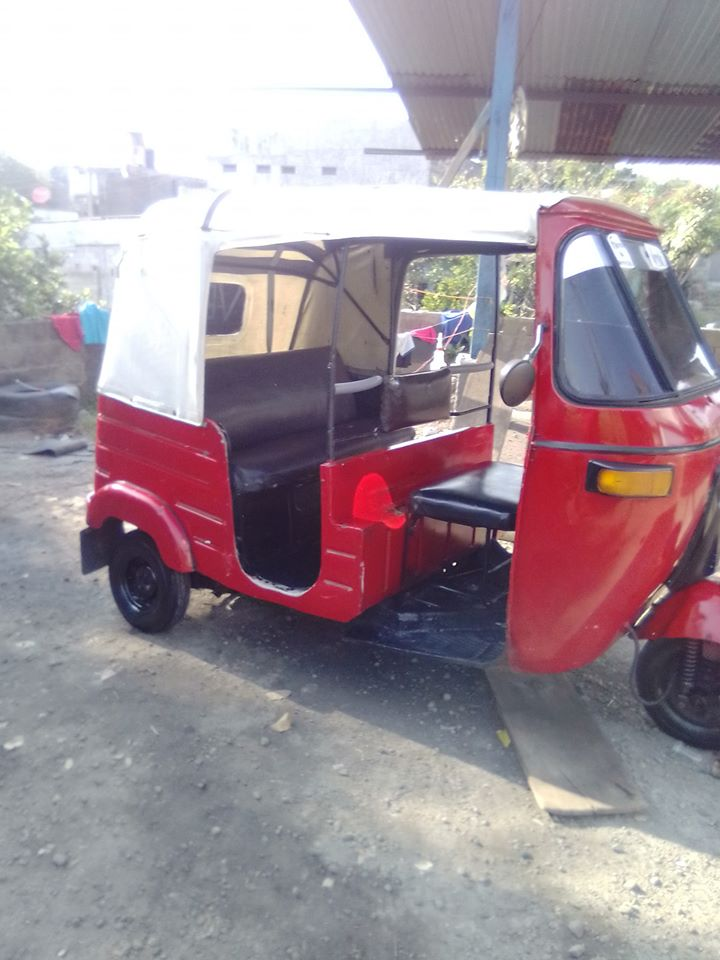mototaxi: (75, 177, 720, 754)
